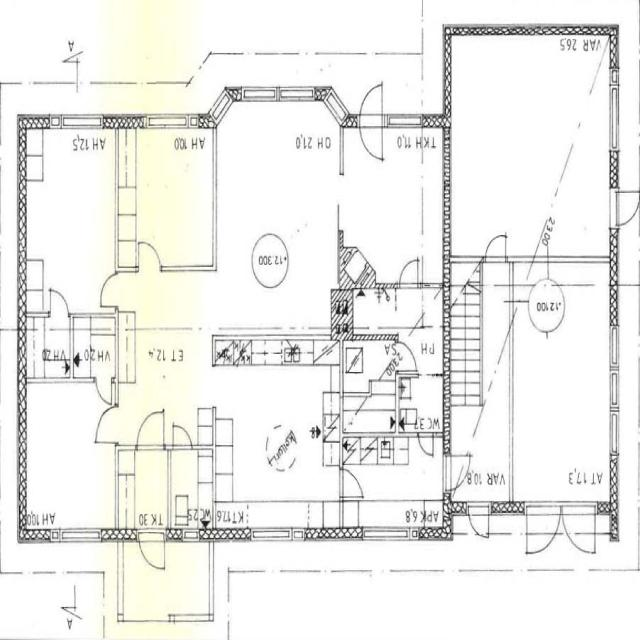door: (212, 93, 343, 297), (338, 126, 442, 291), (520, 497, 564, 569), (356, 81, 386, 165), (142, 411, 194, 455), (92, 380, 120, 450), (607, 179, 640, 232), (136, 405, 167, 453), (442, 450, 473, 498), (136, 530, 168, 574), (136, 233, 166, 274), (93, 370, 117, 421), (482, 228, 511, 270), (97, 265, 123, 311), (464, 500, 492, 541), (338, 464, 368, 502), (396, 253, 424, 293), (46, 283, 72, 322), (394, 338, 419, 377), (170, 420, 193, 455), (416, 429, 436, 459)
window: (603, 65, 625, 161), (605, 321, 623, 421), (247, 520, 304, 549), (359, 520, 415, 547), (57, 520, 106, 549), (278, 80, 317, 106), (386, 108, 425, 134), (59, 109, 100, 133), (145, 110, 189, 132), (240, 80, 280, 104)
zone: (445, 38, 600, 262), (210, 86, 342, 304), (508, 271, 616, 509), (205, 357, 345, 537), (19, 120, 125, 316), (336, 125, 440, 294), (16, 374, 117, 540), (118, 120, 217, 270), (338, 431, 451, 534), (520, 498, 588, 568), (170, 446, 216, 539), (340, 372, 402, 437), (21, 313, 74, 383), (398, 374, 446, 434)
